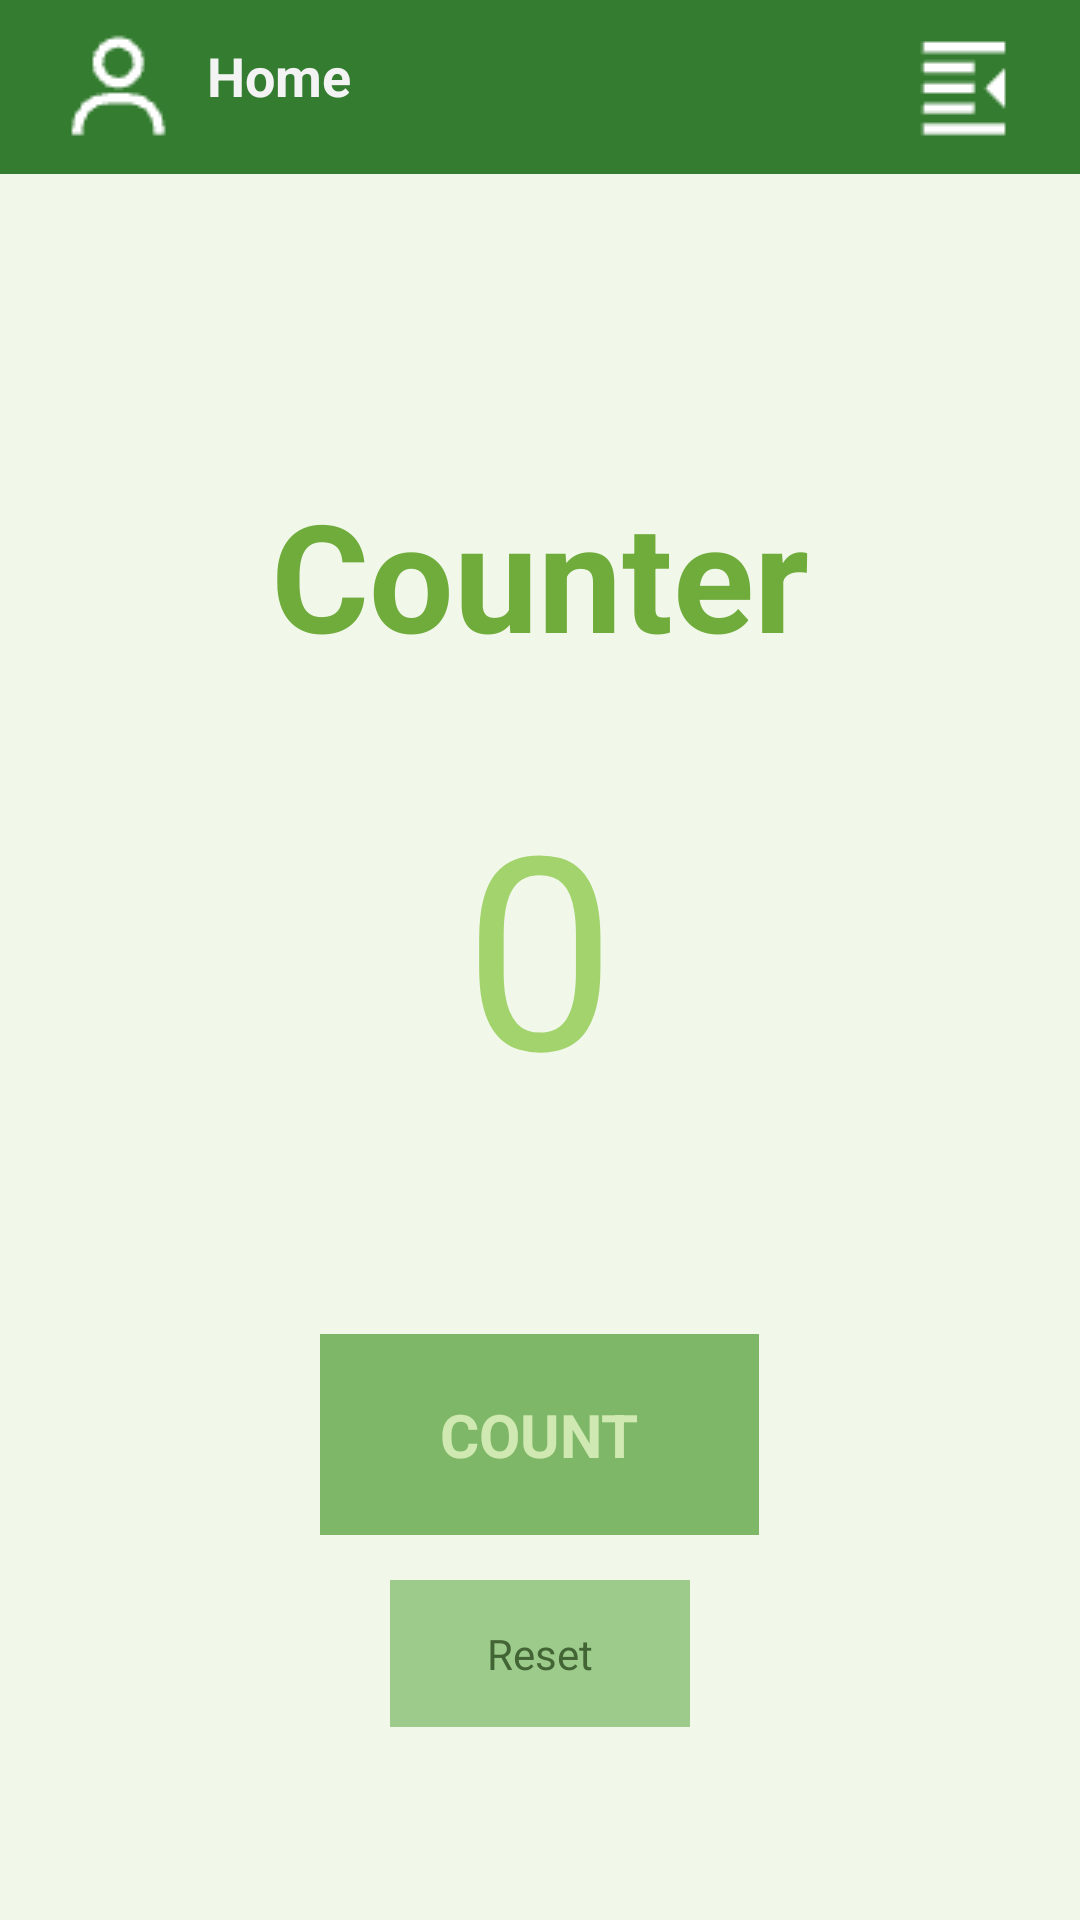

Icons on this 1080×1920 Android screen, each with the point to tap as [x,y]:
menu: [963,88]
user: [118,85]
